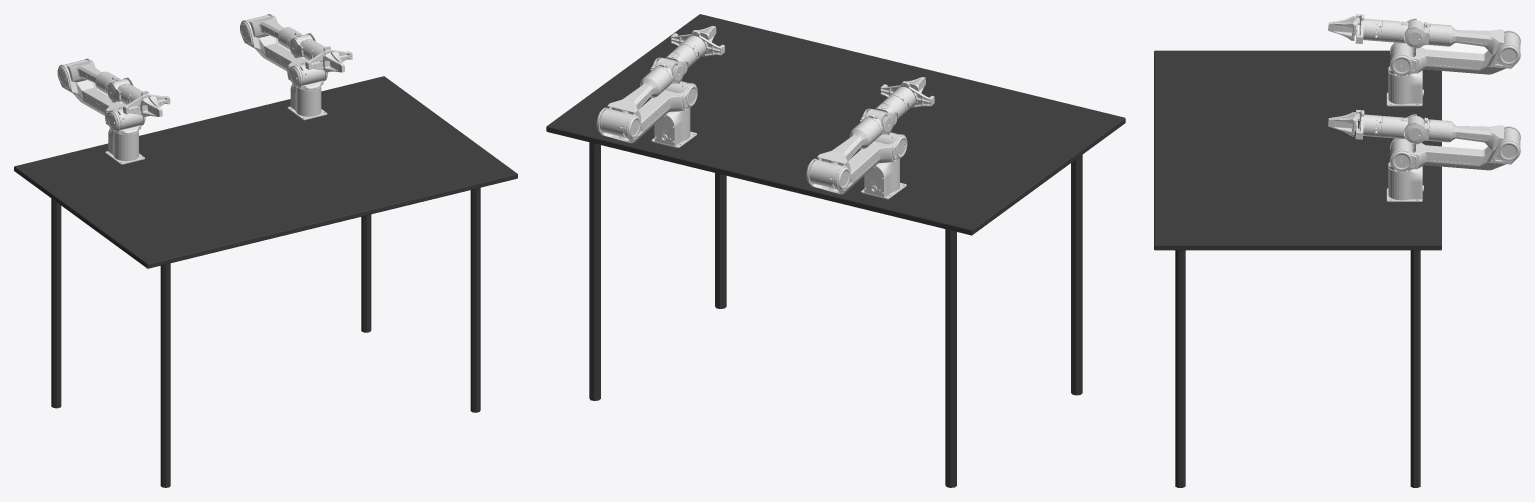
The model's file is Bimanual_PIPER_withTable_aloha.glb.
3 views of the same model, side by side, from view 1: azimuth 30°, elevation 25°; view 2: azimuth 150°, elevation 25°; view 3: azimuth 270°, elevation 25° (orthographic). The views are drawn at different scales.
Parts seen in each view (by area): view 1: tabletop, tablelegs, link2_1, link2, base_link_2, base_link, link3, link3_1, link6_2, link6; view 2: tabletop, tablelegs, link3_1, link2_1, link2, link3, base_link_2, base_link, link6, link6_2, link3_14, link5_1 (+1 smaller); view 3: tabletop, tablelegs, link2_1, link2, link3_1, link3, base_link, base_link_2, link6_2, link6, link4, link4_1 (+5 smaller).
Boxes of the visible parts, x1,y1,x2,y2 form: tabletop: (14,76,517,268); tablelegs: (51,187,480,487); link2_1: (240,14,327,87); link2: (57,58,145,131); base_link_2: (287,84,327,120); base_link: (105,128,144,164); link3: (65,59,115,94); link3_1: (247,15,297,49); link6_2: (305,45,352,70); link6: (123,90,170,114); tabletop: (546,14,1125,235); tablelegs: (589,142,1082,487); link3_1: (599,67,670,137); link2_1: (596,83,697,143); link2: (806,134,907,194); link3: (809,118,880,189); base_link_2: (651,108,696,147); base_link: (861,159,906,199); link6: (880,81,934,113); link6_2: (670,30,725,61); link3_14: (817,127,870,172); link5_1: (666,44,695,83); tabletop: (1154,50,1441,250); tablelegs: (1175,250,1420,487); link2_1: (1390,126,1520,171); link2: (1390,30,1520,75); link3_1: (1428,119,1520,151); link3: (1428,23,1520,55); base_link: (1386,70,1423,106); base_link_2: (1386,166,1423,201); link6_2: (1355,109,1381,139); link6: (1355,14,1381,43); link4: (1404,20,1429,48); link4_1: (1404,116,1429,144).
Bounding box in the file's own units: 1.22 × 0.9972 × 0.9711.
Materials: 1 (1 with a texture image).
